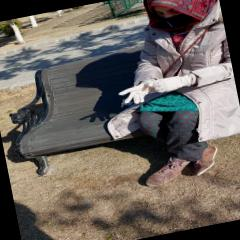gloved: (118, 80, 156, 108), (148, 72, 191, 94)
